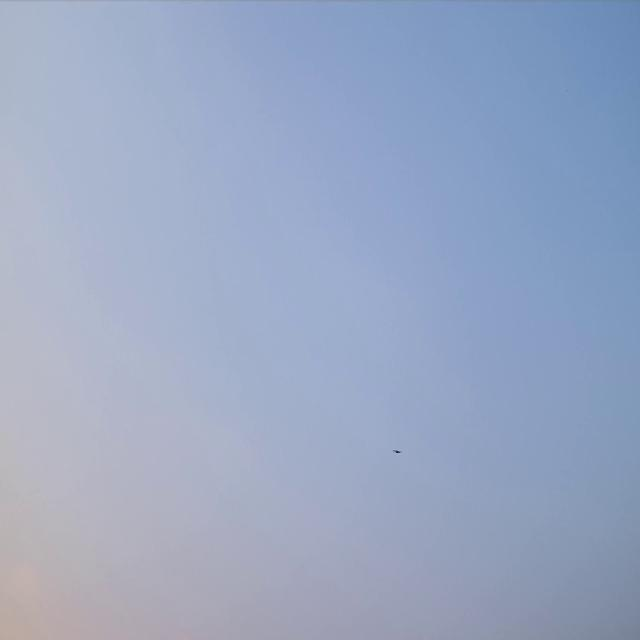UAV: (392, 447, 403, 454)
